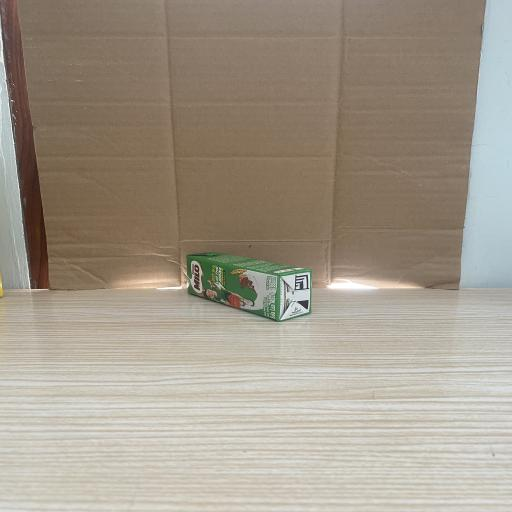milo: (186, 252, 312, 321)
